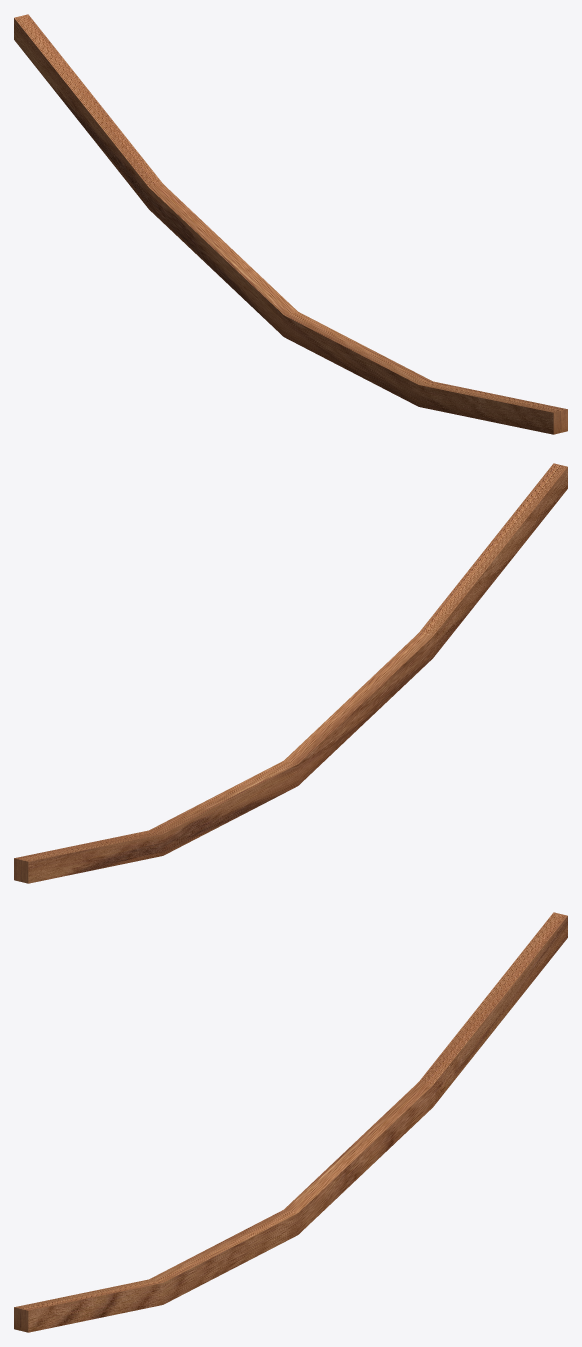
File: _ow(human).fbx
3 renders of one model, top to bottom at view 1: azimuth 30°, elevation 25°; view 2: azimuth 150°, elevation 25°; view 3: azimuth 330°, elevation 25°, orthographic.
Parts seen in each view (by area): view 1: pCube1; view 2: pCube1; view 3: pCube1.
Part boxes in pixels (left/top/right/bottom): pCube1: left=14, top=14, right=567, bottom=434; pCube1: left=14, top=463, right=567, bottom=883; pCube1: left=14, top=912, right=567, bottom=1332.
Bounding box in the file's own units: 0.212 × 1.72 × 13.79.
Materials: 1 (1 with a texture image).
